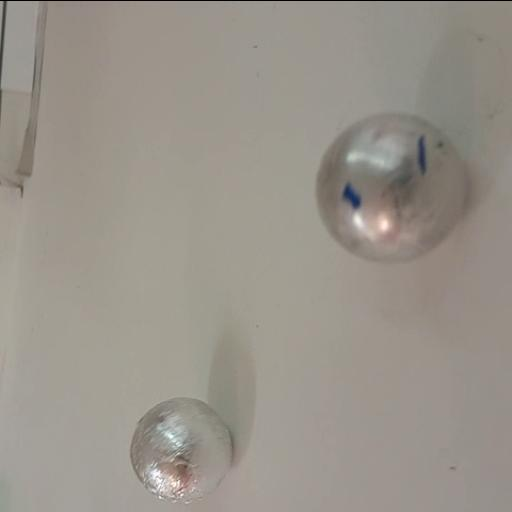alive: (312, 106, 474, 266), (129, 396, 233, 502)
